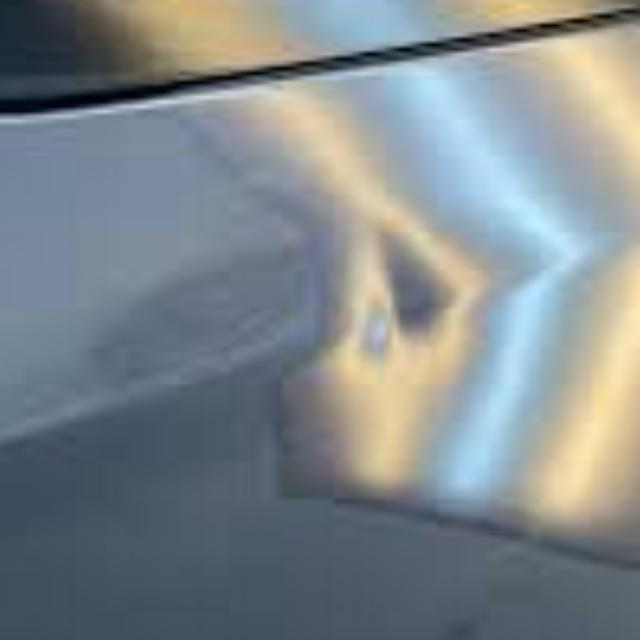dents: (337, 202, 470, 372)
